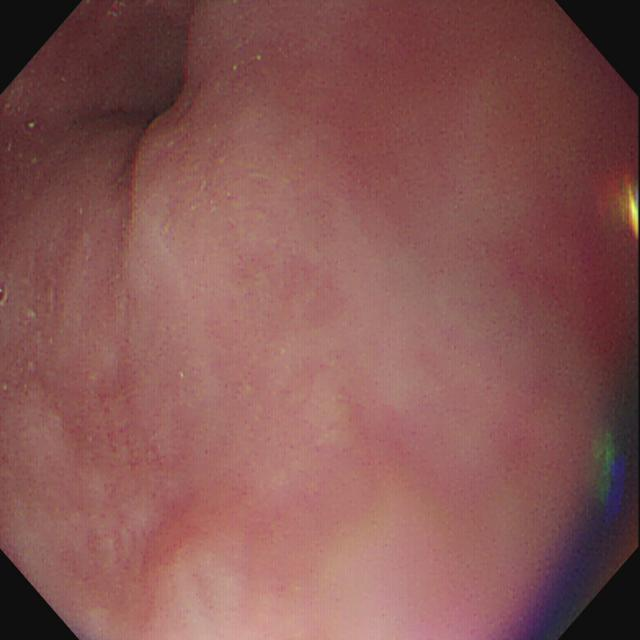A: (52, 360, 168, 470), (142, 490, 209, 575)
U: (519, 432, 640, 640), (623, 178, 640, 240)
